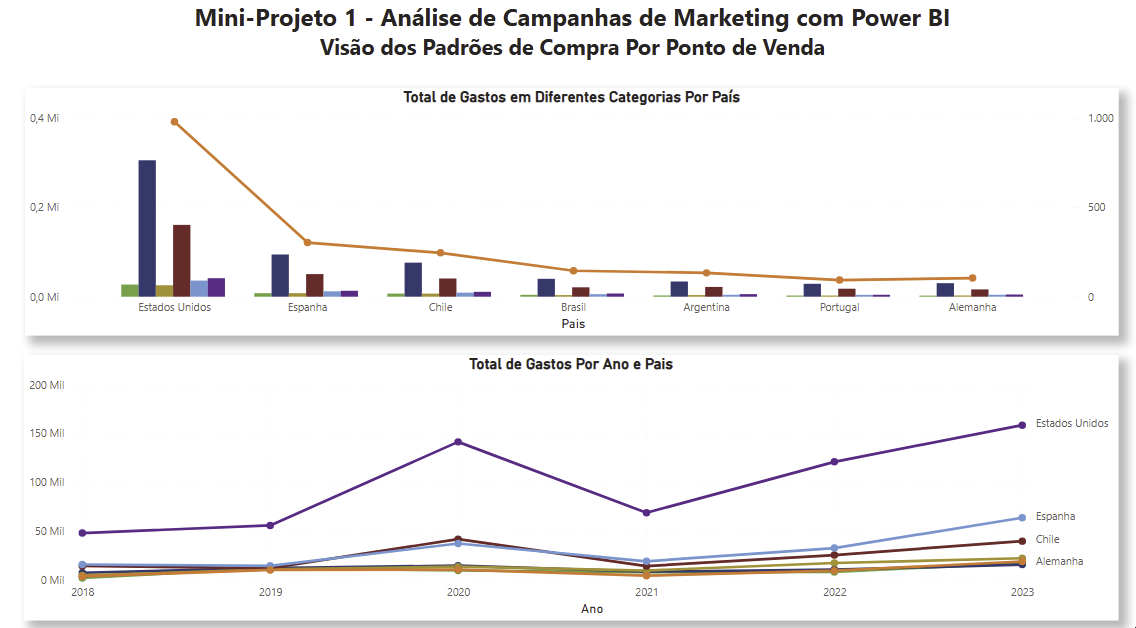

The dashboard page shown, as its layout file describes it:
{"tool":"powerbi","page":{"name":"Visão Produtos de Vendas","canvas":[1280,720],"ordinal":3},"visuals":[{"type":"textbox","box":[10.8,0,1269.2,103.6],"z":0},{"type":"lineClusteredColumnComboChart","title":"Total de Gastos em Diferentes Categorias Por País","fields":{"Y":["Sum(DadosMarketing.Gasto com Alimentos)","Sum(DadosMarketing.Gasto com Eletronicos)","Sum(DadosMarketing.Gasto com Brinquedos)","Sum(DadosMarketing.Gasto com Moveis)","Sum(DadosMarketing.Gasto com Utilidades)","Sum(DadosMarketing.Gasto com Vestuario)"],"Y2":["CountNonNull(DadosMarketing.ID)"],"Category":["DadosMarketing.Pais"]},"box":[35.2,104.1,1218.8,275.6],"z":1},{"type":"lineChart","title":"Total de Gastos Por Ano e Pais","fields":{"Y":["DadosMarketing.TotalGasto"],"Series":["DadosMarketing.Pais"],"Category":["DadosMarketing.Data Cadastro.Variation.Hierarquia de datas.Ano"]},"box":[34.5,401.5,1219.6,295.7],"z":2}]}

Visuals, with their boxes in screenshot pixels (x1, y1, x2, y2), scaled from the page's 1280x720 canvas onto the 1136x628 screenshot:
textbox: pyautogui.locateOnScreen(10, 0, 1135, 90)
"Total de Gastos em Diferentes Categorias Por País" lineClusteredColumnComboChart: pyautogui.locateOnScreen(31, 91, 1113, 331)
"Total de Gastos Por Ano e Pais" lineChart: pyautogui.locateOnScreen(31, 350, 1113, 608)
